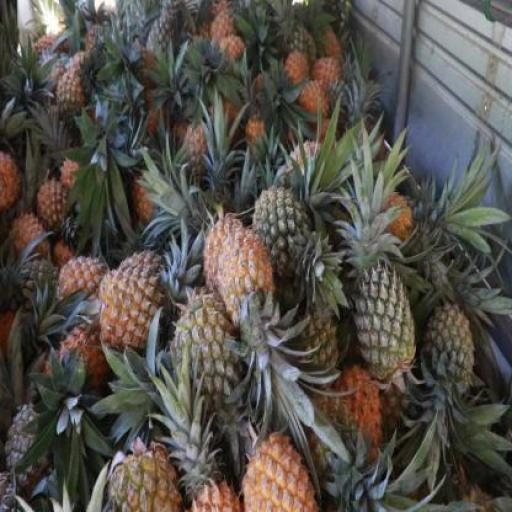------------------------------: (171, 296, 243, 406), (251, 188, 315, 287), (107, 443, 180, 512), (55, 70, 88, 129)
Pineapple - v8 v1: (99, 251, 169, 352), (241, 428, 320, 511), (219, 228, 279, 330), (202, 214, 251, 303), (58, 254, 104, 315), (35, 176, 73, 230), (0, 151, 28, 210)
